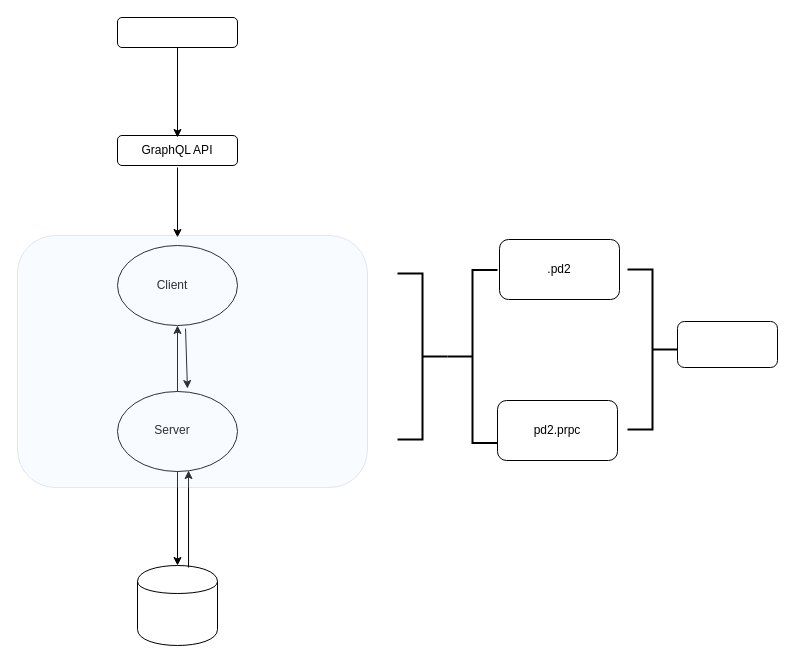
Image size: 795x663. Some labels were removed from this diagram. The centre of each missing label's shape, as x and y in pixels:
".proto file" goes at point (727, 344).
"GraphQL query" goes at point (177, 32).
"MongoDB" goes at point (177, 605).
